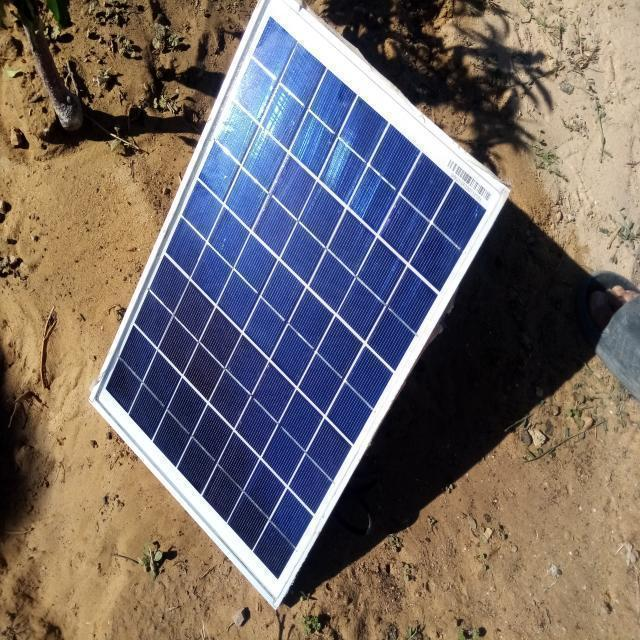Normal Solar Panel: (89, 0, 512, 609)
